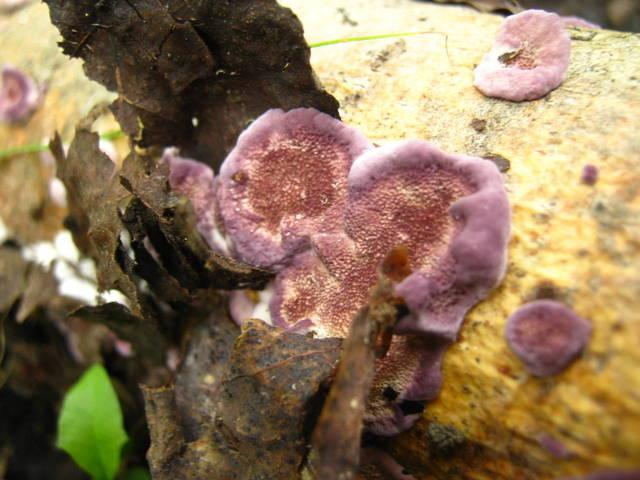Non-edible Mushroom: (149, 85, 571, 454), (471, 7, 572, 102)
